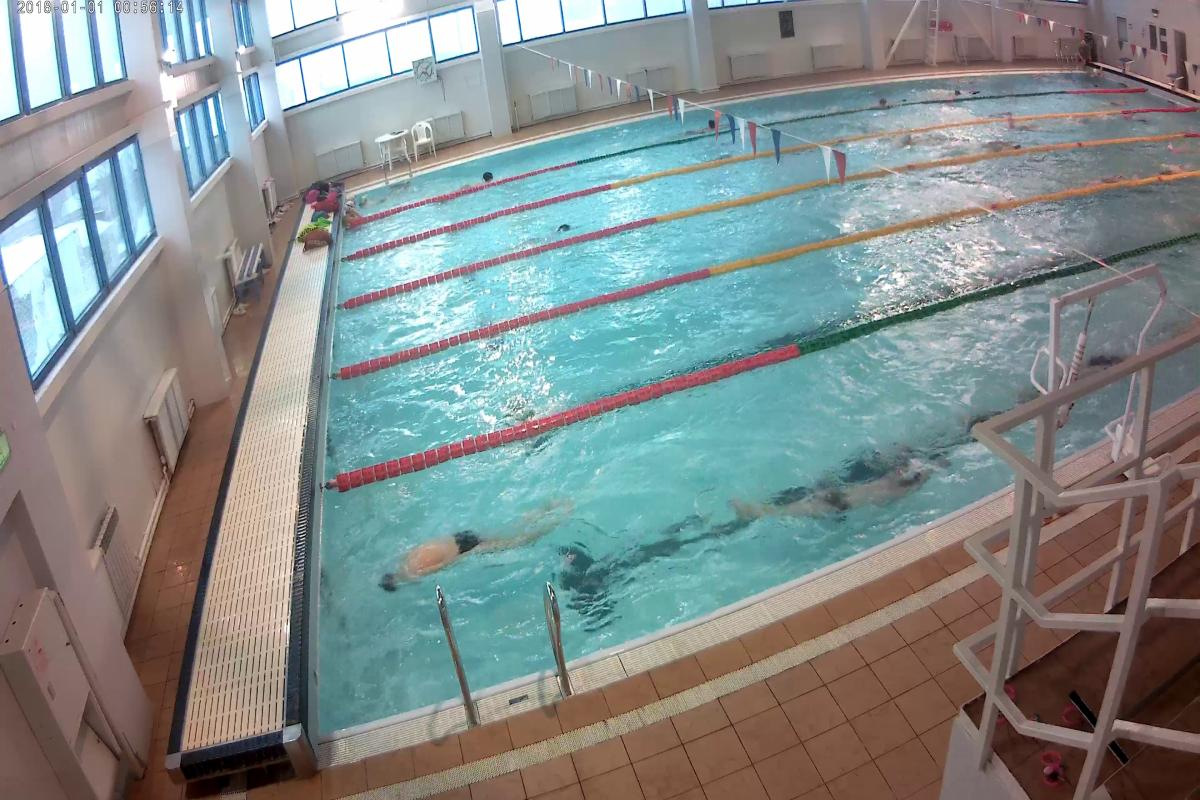swimmer: (373, 503, 542, 592), (762, 456, 939, 522)
